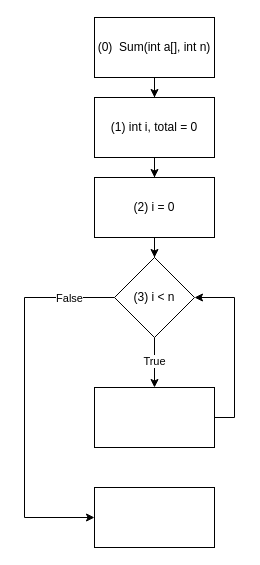
Some shapes in this 260 by 565 pixel diagram are drawn without their labels. The shapes that lost their labels are listed below. From the top down, each one's centre as x and y in pixels, then its label:
[154,417]: (4) total = total + a[i] i = i + 1
[154,517]: (5) return total
